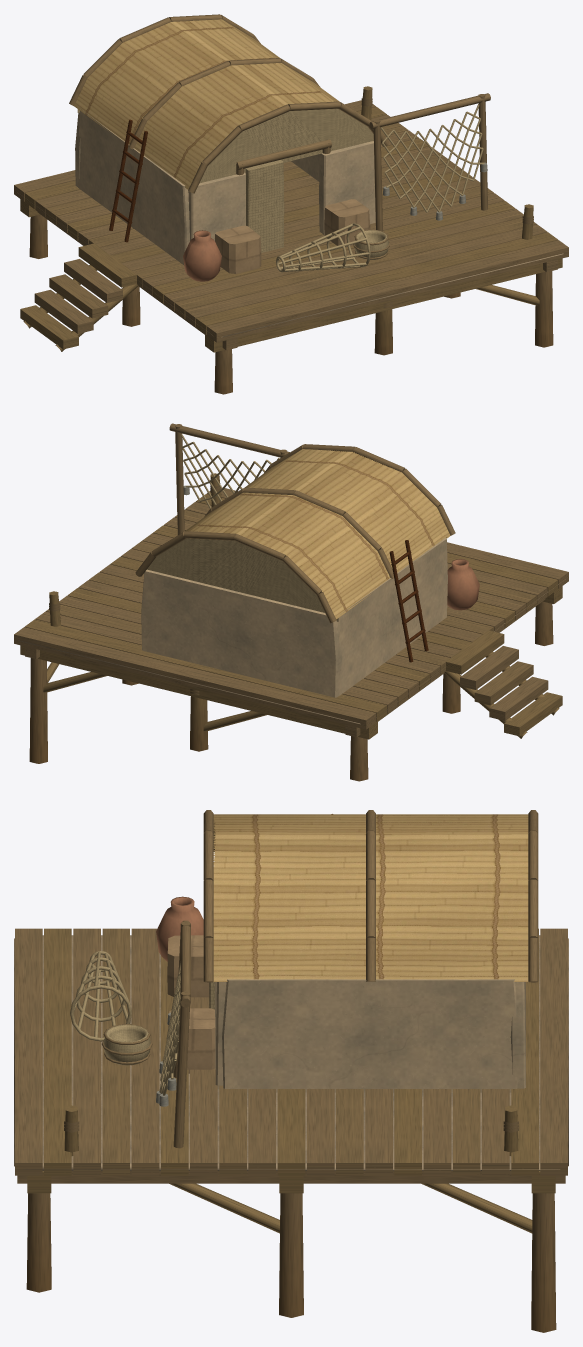
File: fishing.glb
The picture shows the model from 3 angles, top to bottom: view 1: azimuth 30°, elevation 25°; view 2: azimuth 150°, elevation 25°; view 3: azimuth 270°, elevation 25°; orthographic projection. The views are drawn at different scales.
Visible parts, largest first — view 1: game-shore-timber-foundation, original-fishing-laid-reed-thatch, original-fishing-warm-clay-plaster, original-fishing-reed-mat, original-fishing-worn-timber, original-fishing-game-raw-brick-facing, original-fishing-fired-pottery, roof-access-fishing, original-fishing-alluvial-earth; view 2: game-shore-timber-foundation, original-fishing-warm-clay-plaster, original-fishing-laid-reed-thatch, original-fishing-reed-mat, original-fishing-worn-timber, original-fishing-fired-pottery, roof-access-fishing, original-fishing-alluvial-earth; view 3: game-shore-timber-foundation, original-fishing-laid-reed-thatch, original-fishing-warm-clay-plaster, original-fishing-worn-timber, original-fishing-alluvial-earth, original-fishing-reed-mat, original-fishing-game-raw-brick-facing, original-fishing-fired-pottery.
Part boxes in pixels (left/top/right/bottom): game-shore-timber-foundation: left=14, top=86, right=568, bottom=394; original-fishing-laid-reed-thatch: left=74, top=19, right=339, bottom=189; original-fishing-warm-clay-plaster: left=75, top=109, right=375, bottom=265; original-fishing-reed-mat: left=77, top=104, right=484, bottom=272; original-fishing-worn-timber: left=69, top=14, right=490, bottom=259; original-fishing-game-raw-brick-facing: left=215, top=199, right=370, bottom=273; original-fishing-fired-pottery: left=183, top=230, right=221, bottom=281; roof-access-fishing: left=109, top=119, right=147, bottom=242; original-fishing-alluvial-earth: left=17, top=192, right=563, bottom=337; game-shore-timber-foundation: left=14, top=473, right=568, bottom=781; original-fishing-warm-clay-plaster: left=141, top=538, right=447, bottom=697; original-fishing-laid-reed-thatch: left=185, top=449, right=450, bottom=619; original-fishing-reed-mat: left=144, top=434, right=446, bottom=621; original-fishing-worn-timber: left=135, top=423, right=455, bottom=623; original-fishing-fired-pottery: left=447, top=559, right=479, bottom=610; roof-access-fishing: left=389, top=540, right=428, bottom=662; original-fishing-alluvial-earth: left=19, top=579, right=565, bottom=724; game-shore-timber-foundation: left=15, top=928, right=567, bottom=1332; original-fishing-laid-reed-thatch: left=213, top=814, right=528, bottom=981; original-fishing-warm-clay-plaster: left=215, top=979, right=525, bottom=1092; original-fishing-worn-timber: left=101, top=810, right=538, bottom=1148; original-fishing-alluvial-earth: left=14, top=935, right=568, bottom=1170; original-fishing-reed-mat: left=70, top=951, right=214, bottom=1095; original-fishing-game-raw-brick-facing: left=167, top=935, right=215, bottom=1073; original-fishing-fired-pottery: left=156, top=896, right=203, bottom=961.
Bounding box in the file's own units: 6.43 × 3.88 × 5.3.
9 materials, 9 textured.
